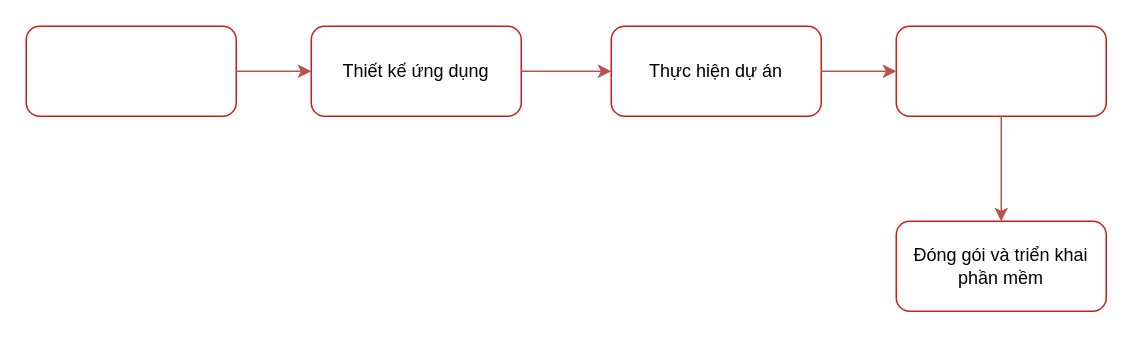
Image size: 1133x338. Some labels were removed from this diagram. The centre of each missing label's shape, as x and y in pixels:
"Kiểm thử và sửa lỗi phần mềm" goes at (1000,70).
"Phân tích yêu cầu" goes at (130,70).
